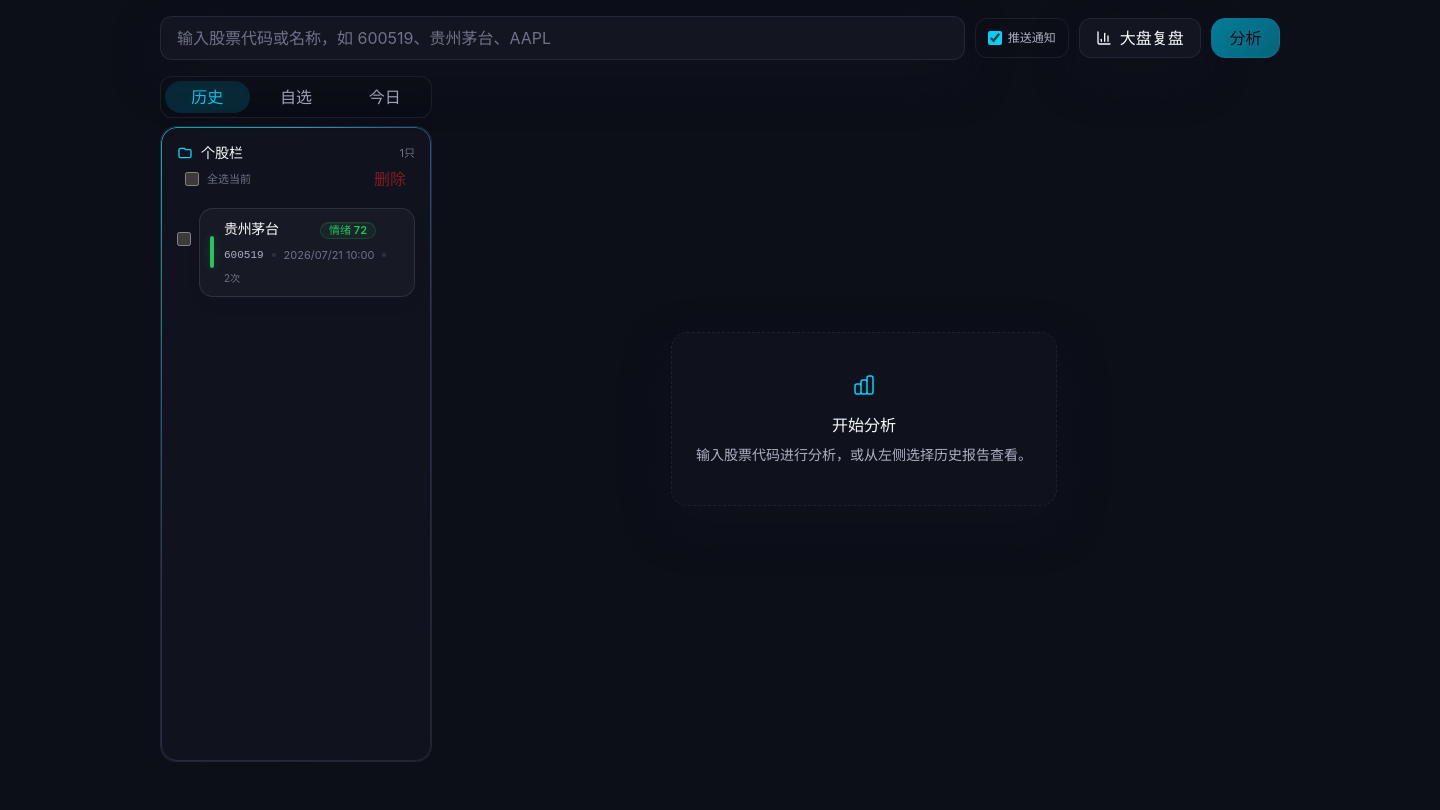
Test: HomePage › loads the Today ranking from paginated history instead of the capped stock bar
Click the button "今日".
click(385, 97)  # box [342,81,427,113]
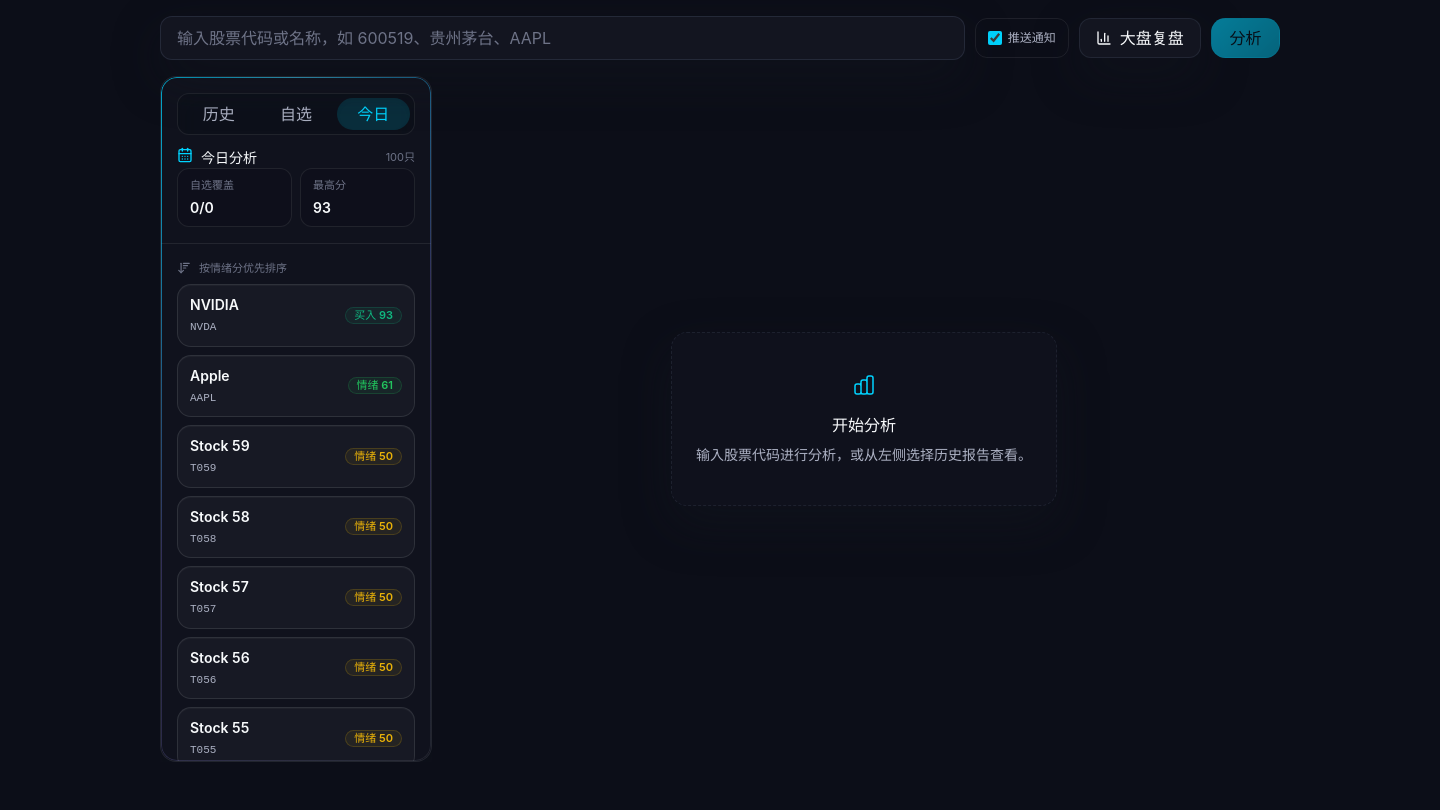
Expected: the button "NVIDIA NVDA 买入 93" is shown, [177,284,415,346]
